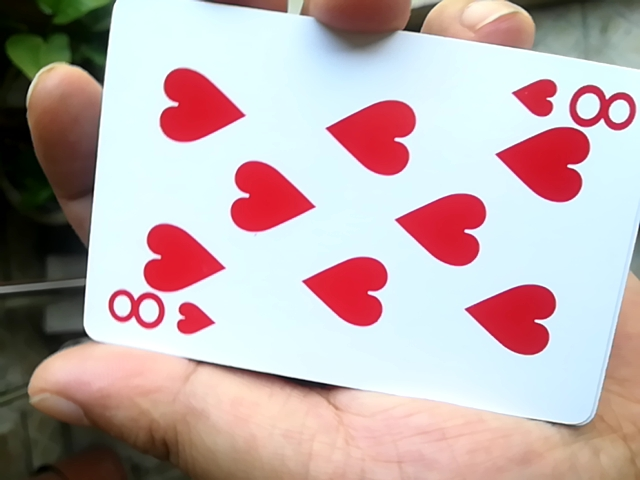hx 8: (74, 11, 634, 410)
